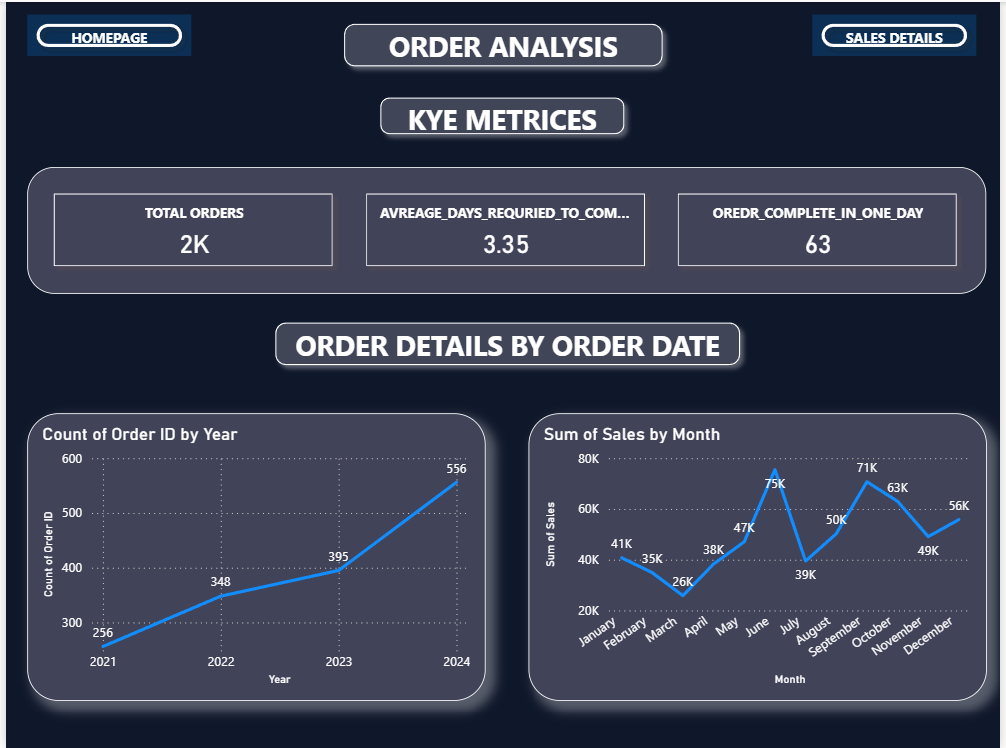

This screenshot's page, from the dashboard's own definition file:
{"tool":"powerbi","page":{"name":"ORDER DETAILS","canvas":[960,720],"ordinal":1},"visuals":[{"type":"shape","box":[316.8,11.5,325.4,59],"z":0},{"type":"shape","box":[352.8,83.5,253.4,53.3],"z":1000},{"type":"cardVisual","fields":{"Data":["Dataset.TOTAL ORDERS","Dataset.AVREAGE_DAYS_REQURIED_TO_COMPLETE_OREDR","Dataset.OREDR_COMPLETE_IN_ONE_DAY"]},"box":[20.2,159.8,925.9,122.4],"z":2000},{"type":"shape","box":[250.6,301,466.6,59],"z":3000},{"type":"lineChart","fields":{"Y":["CountNonNull(Dataset.Order ID)"],"Category":["Dataset.Order Date.Variation.Date Hierarchy.Year"]},"box":[20.2,397.4,442.1,277.9],"z":4000},{"type":"lineChart","fields":{"Category":["Dataset.Order Date.Variation.Date Hierarchy.Month"],"Y":["Sum(Dataset.Sales)"]},"box":[504,397.4,442.1,277.9],"z":5000},{"type":"actionButton","title":"REGION","box":[777.6,11.5,158.4,40.3],"z":6000},{"type":"actionButton","title":"REGION","box":[20.2,11.5,158.4,40.3],"z":7000}]}

Visuals, with their boxes in screenshot pixels (x1, y1, x2, y2), scaled from the page's 960x720 canvas onto the 1006x748 screenshot:
shape: 332/12/673/73
shape: 370/87/635/142
cardVisual - Dataset.TOTAL ORDERS x Dataset.AVREAGE_DAYS_REQURIED_TO_COMPLETE_OREDR: 21/166/991/293
shape: 263/313/752/374
lineChart - CountNonNull(Dataset.Order ID) x Dataset.Order Date.Variation.Date Hierarchy.Year: 21/413/484/702
lineChart - Dataset.Order Date.Variation.Date Hierarchy.Month x Sum(Dataset.Sales): 528/413/991/702
"REGION" actionButton: 815/12/981/54
"REGION" actionButton: 21/12/187/54
